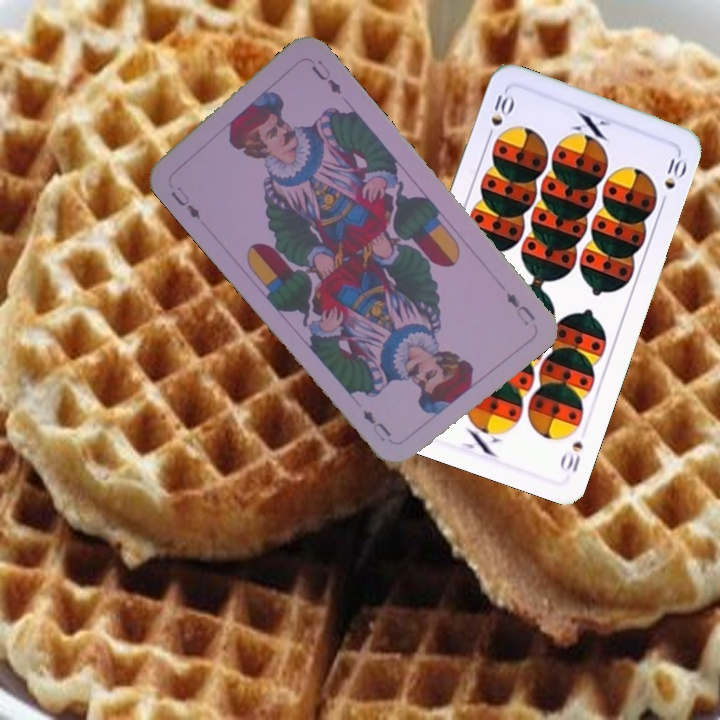EU: (501, 287, 538, 328), (167, 182, 203, 222)
S10: (482, 90, 517, 144), (556, 437, 586, 475)
